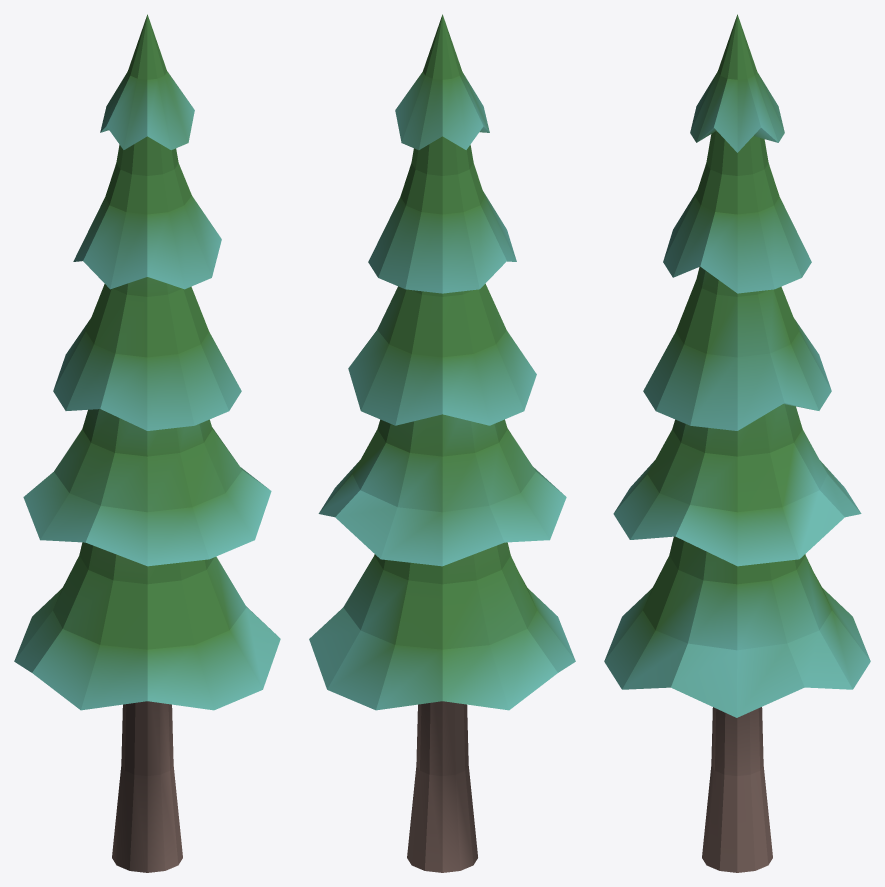
Rendered from choinka2.fbx.
The picture shows the model from 3 angles, left to right: view 1: azimuth 30°, elevation 25°; view 2: azimuth 150°, elevation 25°; view 3: azimuth 270°, elevation 25°; orthographic projection.
Visible parts, largest first — view 1: Cylinder.001; view 2: Cylinder.001; view 3: Cylinder.001.
Boxes of the visible parts, box(x1,y1,x2,y2) form: Cylinder.001: box(14, 14, 280, 872); Cylinder.001: box(309, 14, 575, 872); Cylinder.001: box(604, 14, 870, 872).
Size of the model in its own units: 361 by 1260 by 361.
